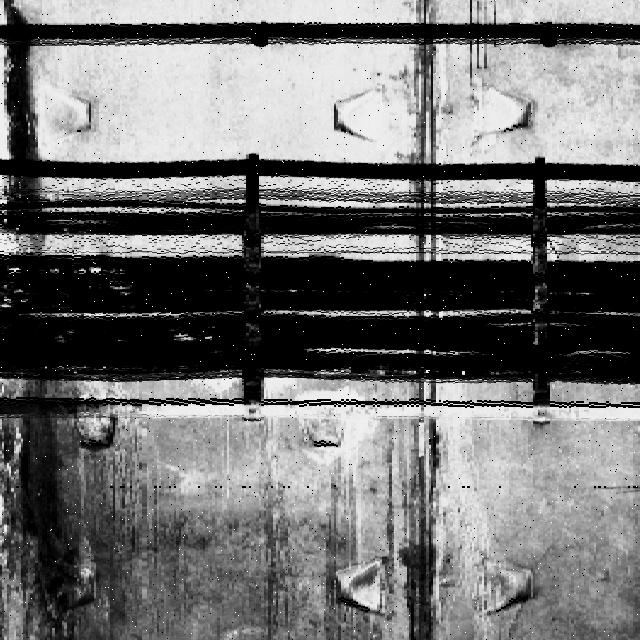leakage: (0, 378, 136, 640), (384, 414, 454, 640), (0, 3, 43, 250)
